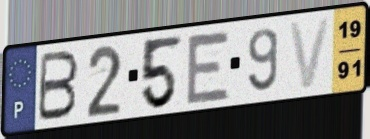2: (87, 40, 125, 120)
5: (137, 33, 185, 111)
9: (246, 26, 280, 94)
B: (35, 48, 81, 124)
E: (184, 29, 233, 107)
V: (286, 15, 334, 92)
